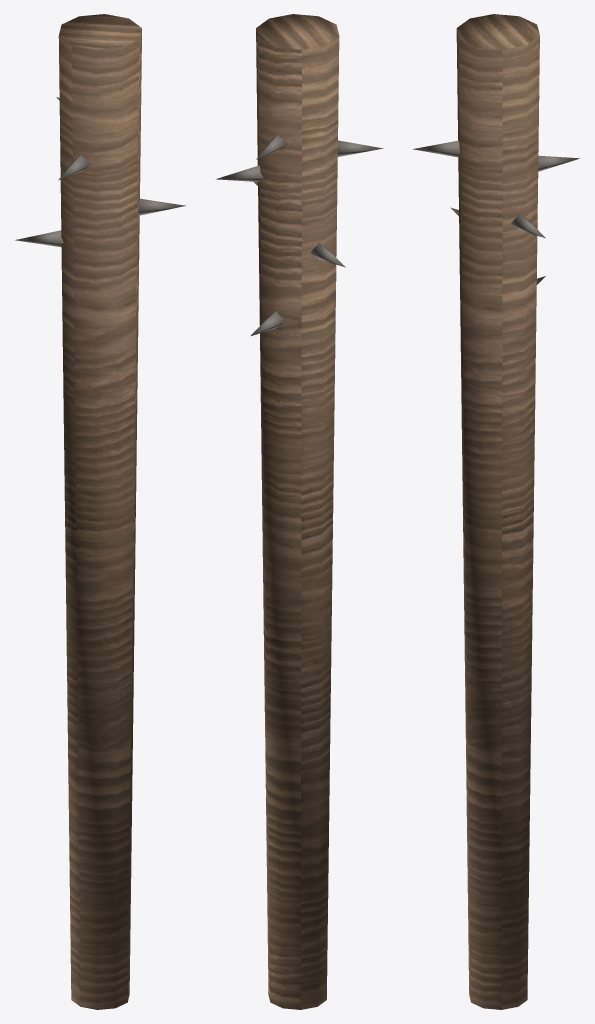
The model's file is spiked_club.glb.
3 views of the same model, side by side, from view 1: azimuth 30°, elevation 25°; view 2: azimuth 150°, elevation 25°; view 3: azimuth 330°, elevation 25° (orthographic).
Visible parts, largest first — view 1: spiked_club; view 2: spiked_club; view 3: spiked_club.
Part boxes in pixels (<box>): spiked_club: <box>15,14,185,1009</box>; spiked_club: <box>216,14,383,1009</box>; spiked_club: <box>412,14,579,1009</box>.
Size of the model in its own units: 0.0728 by 0.5 by 0.0611.
Materials: 2 (1 with a texture image).
